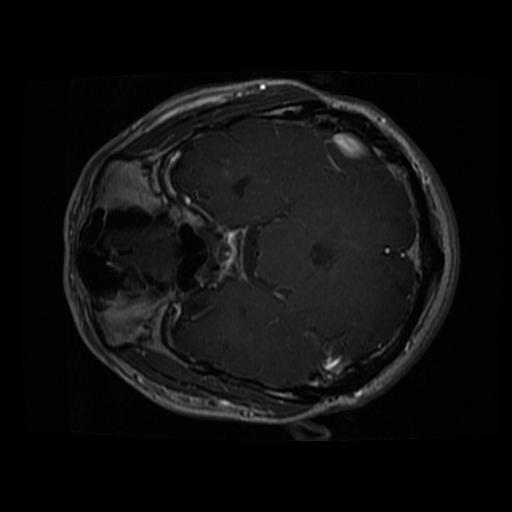glioma: (230, 171, 254, 198)
